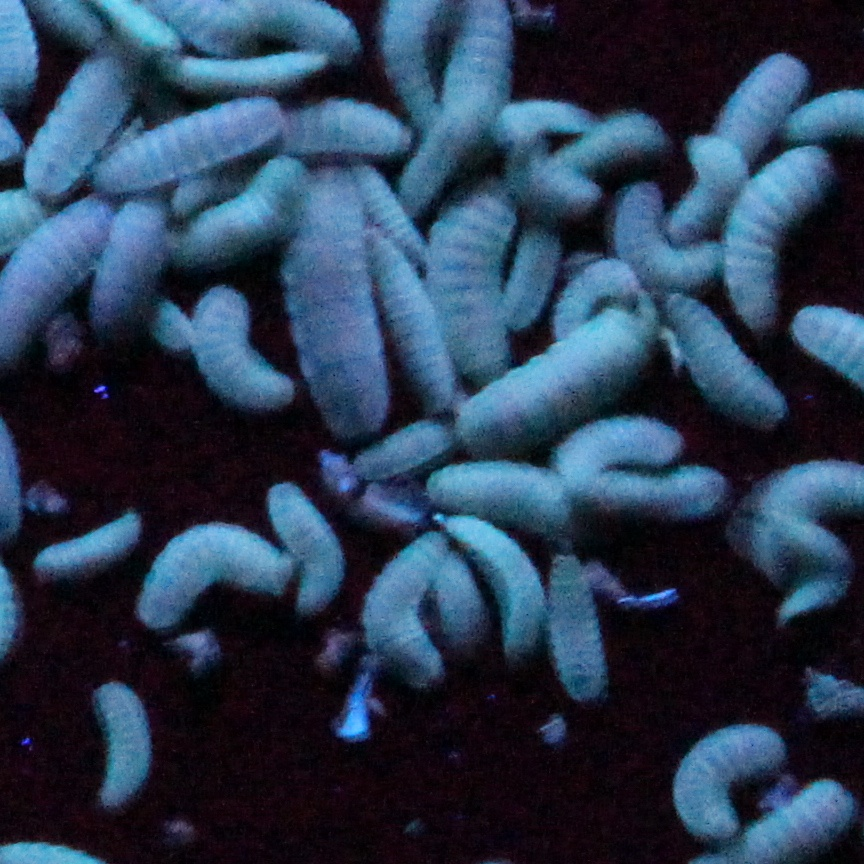larve: (272, 159, 390, 428), (459, 306, 659, 446), (21, 30, 146, 191), (439, 511, 552, 682), (723, 148, 828, 330), (101, 88, 283, 190), (430, 168, 517, 379), (357, 239, 465, 408), (661, 291, 788, 431), (175, 151, 301, 279), (357, 533, 461, 688), (192, 282, 301, 420), (137, 524, 286, 620), (488, 93, 597, 224), (85, 190, 168, 350), (703, 57, 815, 175), (537, 546, 621, 702), (614, 182, 725, 290), (250, 95, 412, 168), (677, 724, 777, 842), (423, 455, 575, 531), (77, 673, 154, 810), (268, 479, 345, 606), (665, 130, 746, 244), (157, 40, 325, 90), (561, 104, 668, 180), (346, 166, 434, 257), (30, 510, 146, 573), (354, 413, 470, 475), (419, 553, 492, 651), (570, 417, 677, 480), (597, 464, 719, 519), (499, 222, 565, 320), (554, 257, 641, 331)
